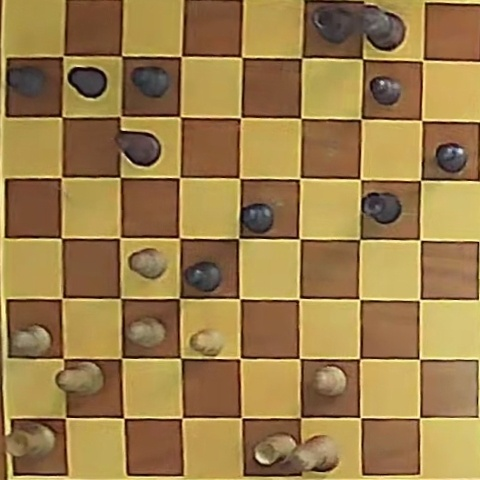black-king: (361, 6, 405, 50)
black-knight: (116, 132, 160, 167)
black-pawn: (68, 67, 108, 99), (7, 66, 46, 98), (131, 66, 169, 98), (185, 261, 222, 292), (241, 203, 274, 233), (435, 143, 467, 173), (370, 76, 402, 105)
black-rook: (312, 5, 360, 44), (362, 192, 401, 224)
white-bishop: (57, 362, 103, 395)
white-king: (290, 435, 339, 472)
white-pawn: (11, 324, 52, 357), (126, 316, 166, 347), (129, 248, 167, 279), (313, 365, 346, 396), (189, 329, 223, 356)
white-rook: (6, 421, 57, 459), (254, 433, 296, 465)
